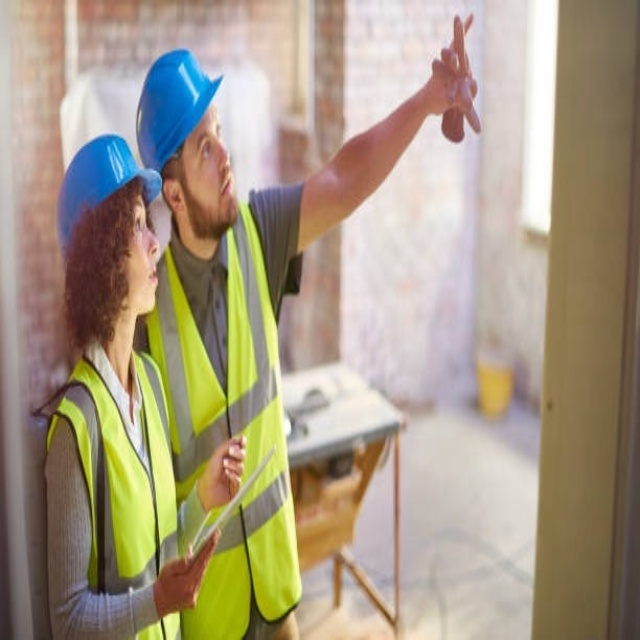Sin_gafas: (189, 114, 226, 171), (132, 199, 153, 236)
Sin_guantes: (436, 10, 481, 143), (156, 527, 221, 618), (201, 434, 247, 512)
Sin_mascara: (208, 171, 238, 223), (141, 262, 161, 311)
